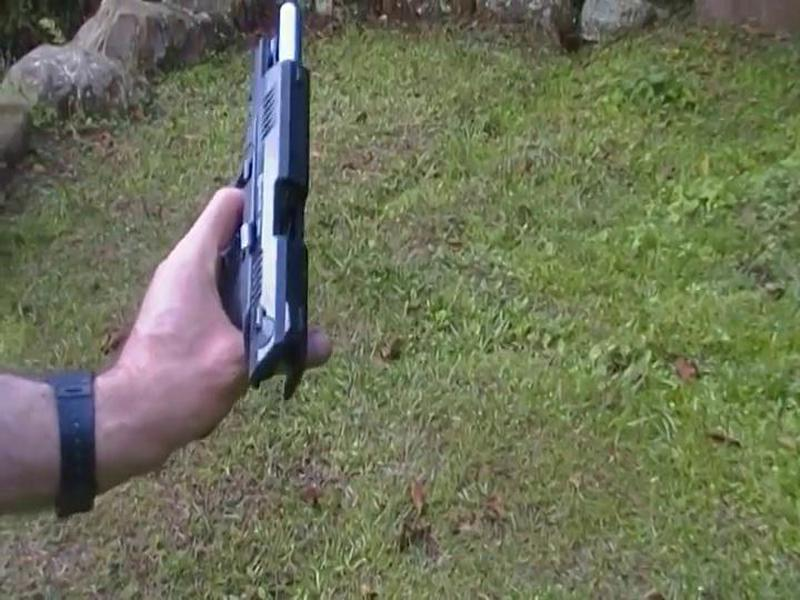Pistola: (178, 49, 359, 397)
